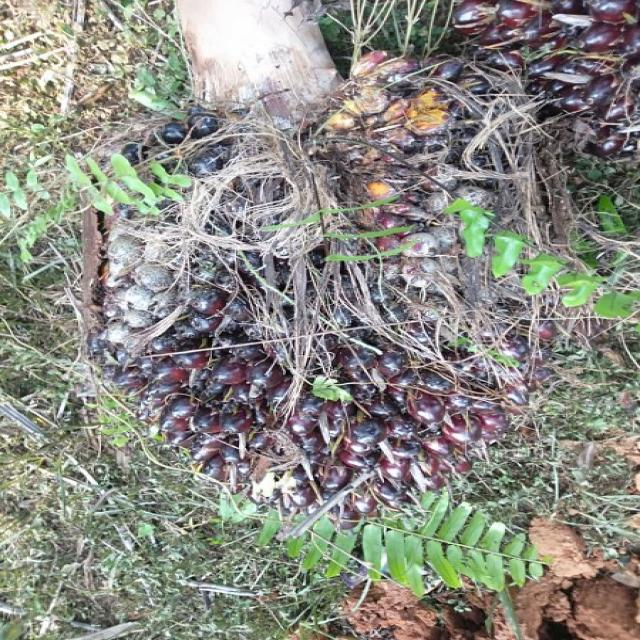fraksi 00: (27, 35, 629, 580)
